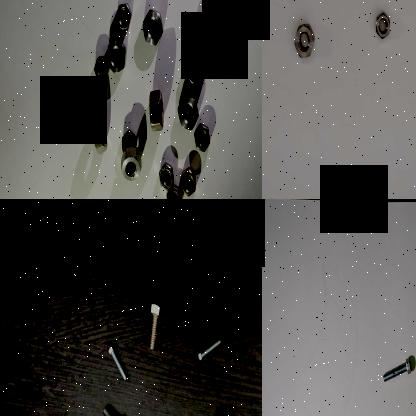Bolts: (382, 352, 416, 390), (106, 342, 132, 387), (145, 298, 165, 356), (196, 335, 222, 365), (100, 400, 128, 416)
NUTS: (186, 28, 214, 74), (141, 5, 165, 48), (292, 20, 316, 62), (176, 93, 201, 132), (119, 146, 144, 184), (104, 37, 128, 76), (91, 116, 109, 158), (119, 127, 141, 157), (180, 163, 198, 198), (92, 55, 112, 85), (114, 1, 132, 34), (374, 10, 393, 41), (194, 124, 212, 156), (156, 162, 174, 190), (184, 62, 204, 86), (165, 181, 183, 199)
